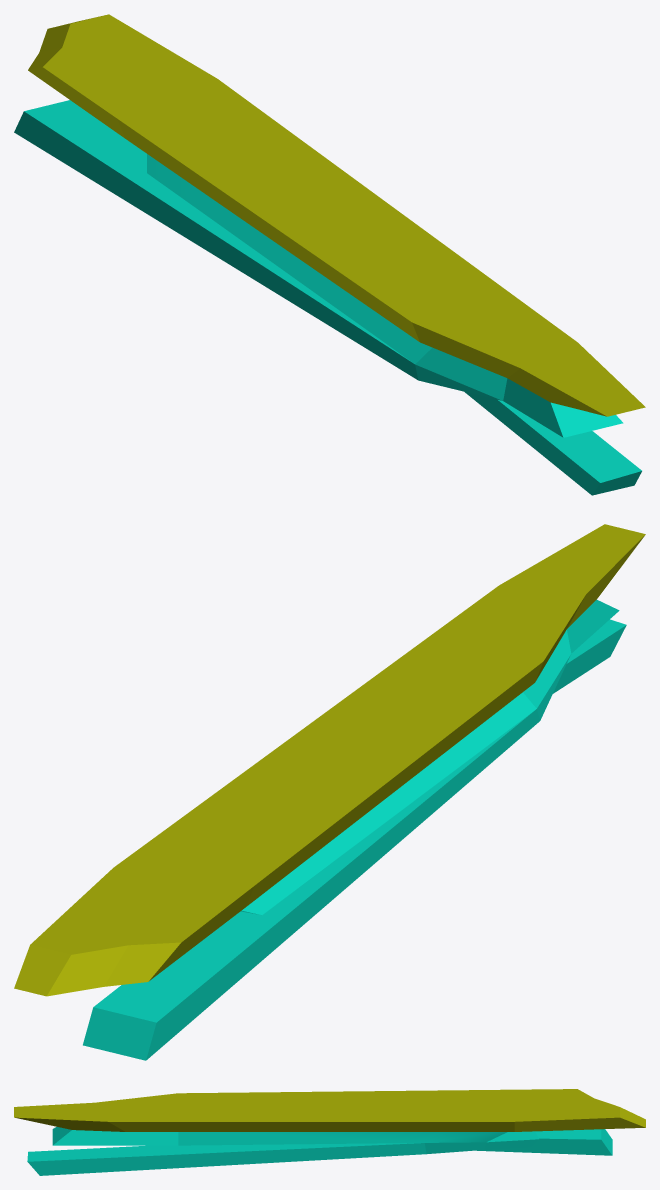
Rendered from Long_bridge_rework bien.fbx.
3 renders of one model, top to bottom at view 1: azimuth 30°, elevation 25°; view 2: azimuth 150°, elevation 25°; view 3: azimuth 270°, elevation 25°, orthographic. The views are drawn at different scales.
Parts seen in each view (by area): view 1: Long_Bridge_rework_walk, Long_Bridge_rework_notwalk; view 2: Long_Bridge_rework_walk, Long_Bridge_rework_notwalk; view 3: Long_Bridge_rework_walk, Long_Bridge_rework_notwalk.
Part boxes in pixels (x1=…): Long_Bridge_rework_walk: x1=28, y1=14, x2=645, y2=416; Long_Bridge_rework_notwalk: x1=14, y1=100, x2=641, y2=495; Long_Bridge_rework_walk: x1=14, y1=524, x2=645, y2=996; Long_Bridge_rework_notwalk: x1=83, y1=600, x2=626, y2=1060; Long_Bridge_rework_walk: x1=14, y1=1089, x2=645, y2=1131; Long_Bridge_rework_notwalk: x1=27, y1=1127, x2=612, y2=1175.
Size of the model in its own units: 304 by 241 by 2472.
